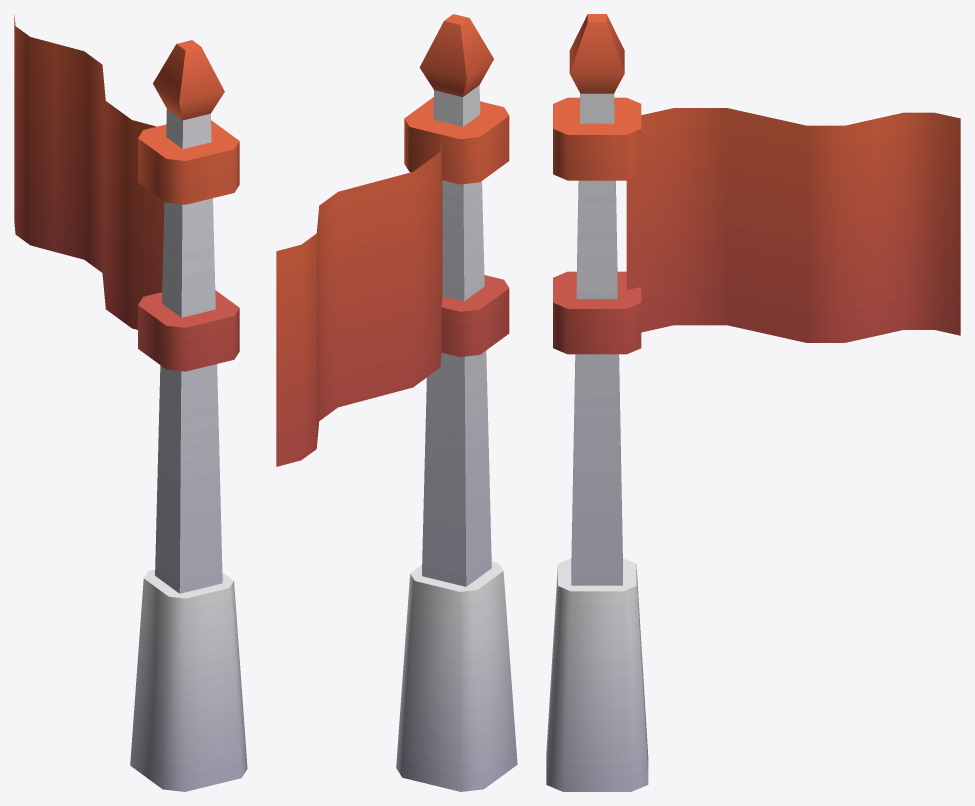
The model's file is flag.glb.
3 views of the same model, side by side, from view 1: azimuth 30°, elevation 25°; view 2: azimuth 150°, elevation 25°; view 3: azimuth 270°, elevation 25° (orthographic). The views are drawn at different scales.
Parts seen in each view (by area): view 1: flag; view 2: flag; view 3: flag.
Part boxes in pixels (x1,y1,x2,y2): flag: (14,15,247,791); flag: (276,14,517,791); flag: (546,14,960,791).
Size of the model in its own units: 0.3191 by 2.6 by 1.3.
Materials: 1 (1 with a texture image).
